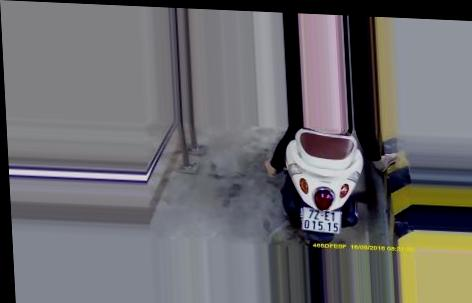License_Plate: (295, 204, 349, 239)
